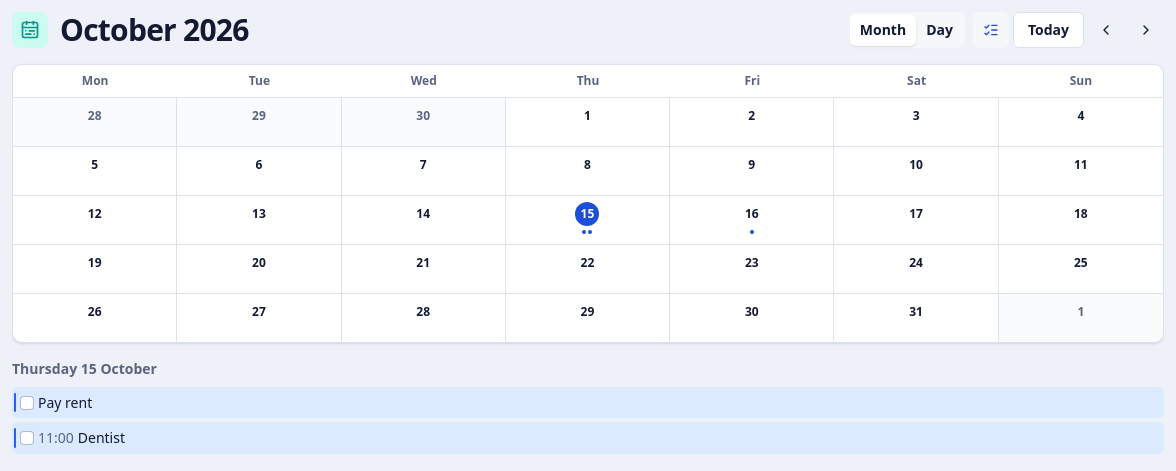
The compact Month on a phone › lists a day's Tasks when it is tapped
Expected: the text "Pay rent" is shown, 38,393 -> 92,412
Click the cell "16". click: (752, 220)
box: 670,196 -> 834,244
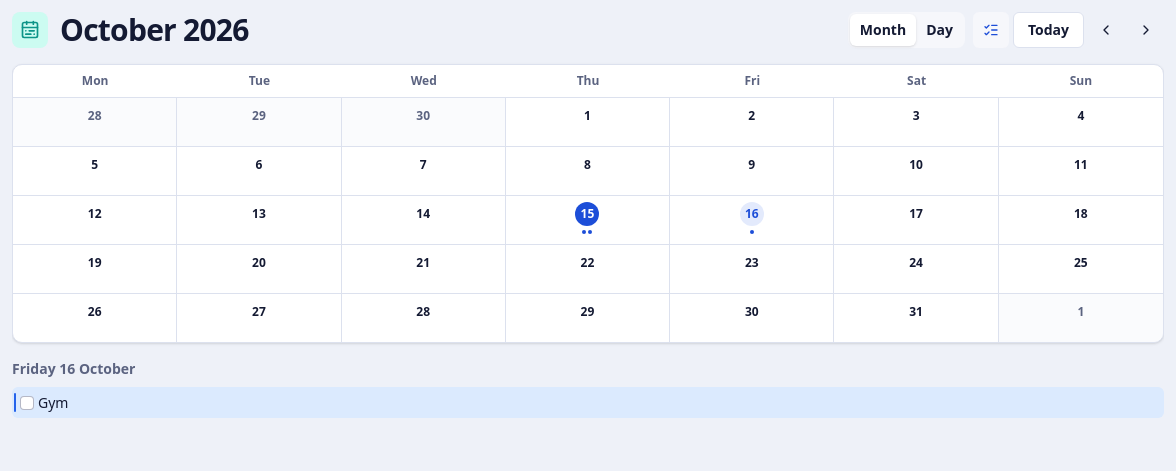
Result: the button with aria-label "Gym," is shown at 38,393 -> 1160,412
Click the cell "17". click: (917, 220)
box: 834,196 -> 999,244
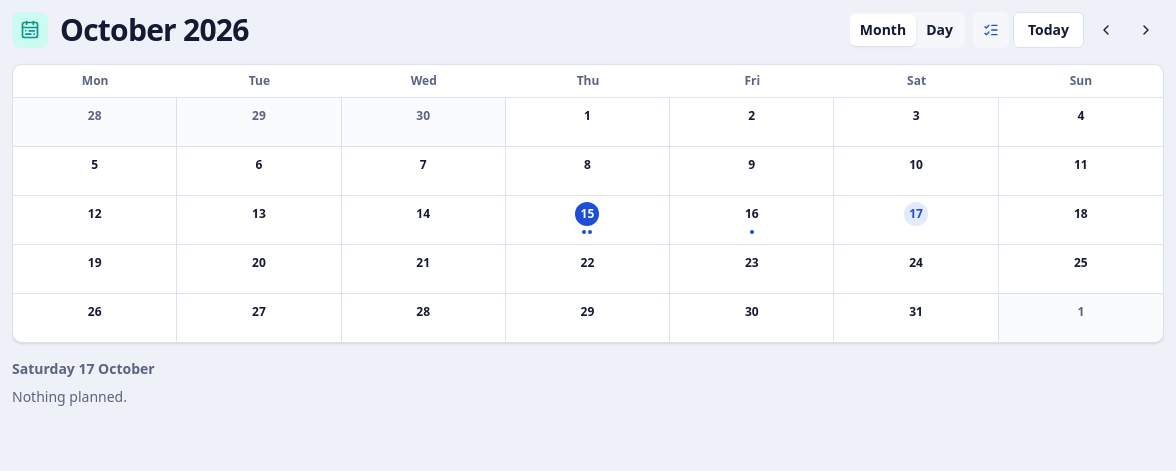
Result: the text "Nothing planned." is shown at 12,387 -> 127,406
